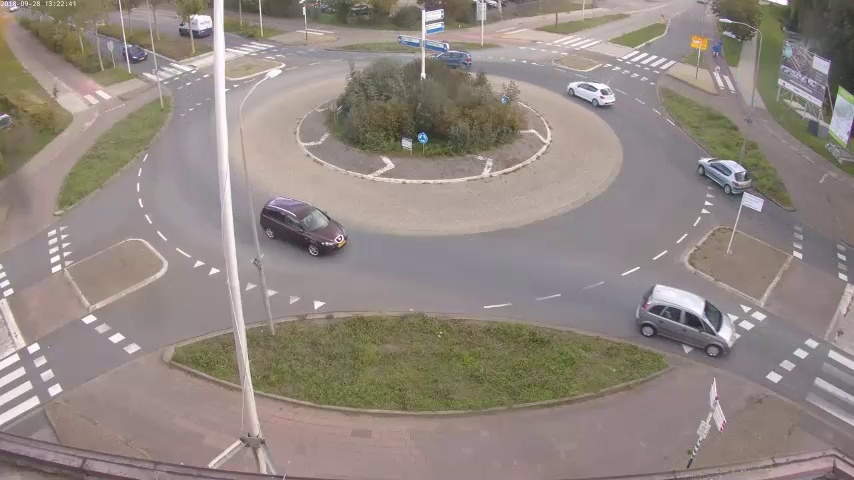bicycle: (710, 37, 726, 61)
car: (636, 280, 739, 358), (263, 195, 345, 264), (697, 158, 747, 197), (568, 78, 611, 109), (432, 51, 471, 73), (122, 45, 148, 65)
van: (178, 13, 211, 39)
